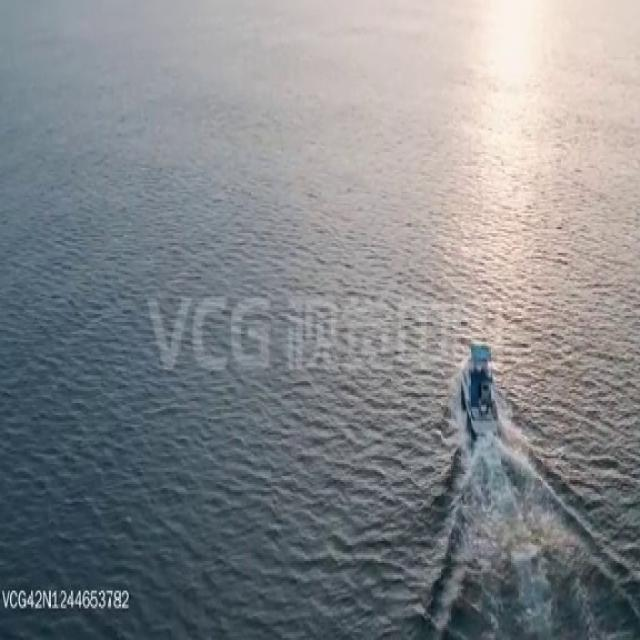houseboat: (459, 335, 500, 436)
